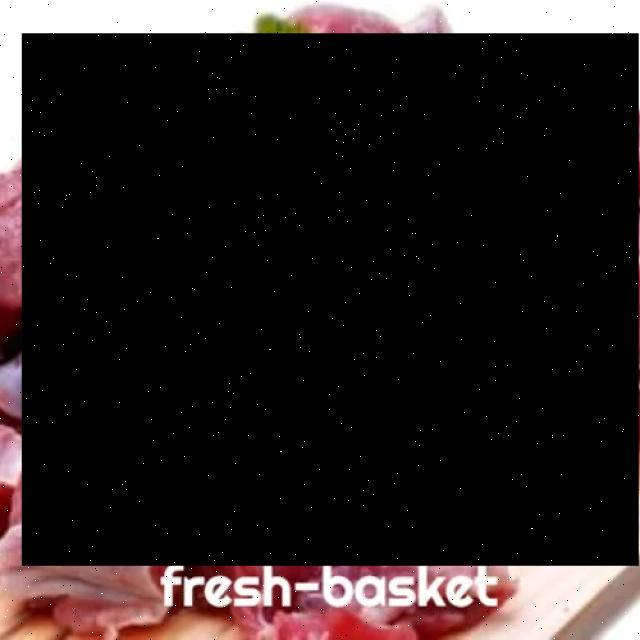Mutton: (22, 34, 640, 566)
